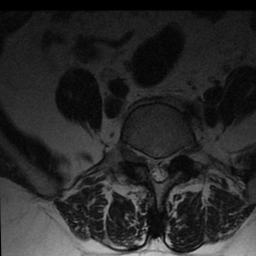CCS_normal: (153, 148, 162, 188)
LFS_stenosis: (172, 144, 181, 171)
LLS_normal: (162, 151, 171, 184)
RFS_normal: (134, 144, 144, 174)
RLS_normal: (143, 148, 153, 182)
